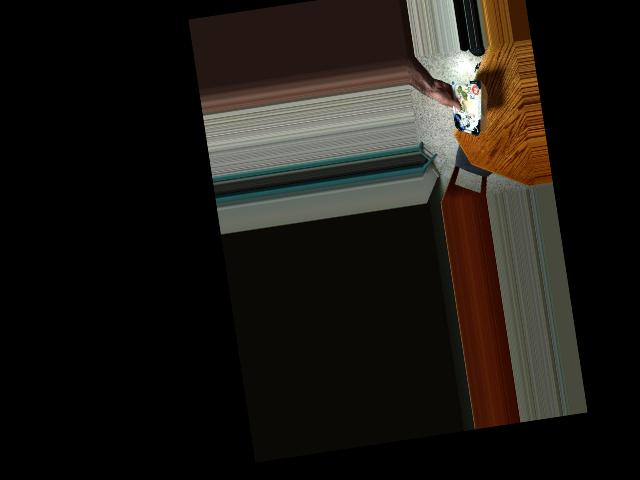cheese: (443, 79, 489, 136)
